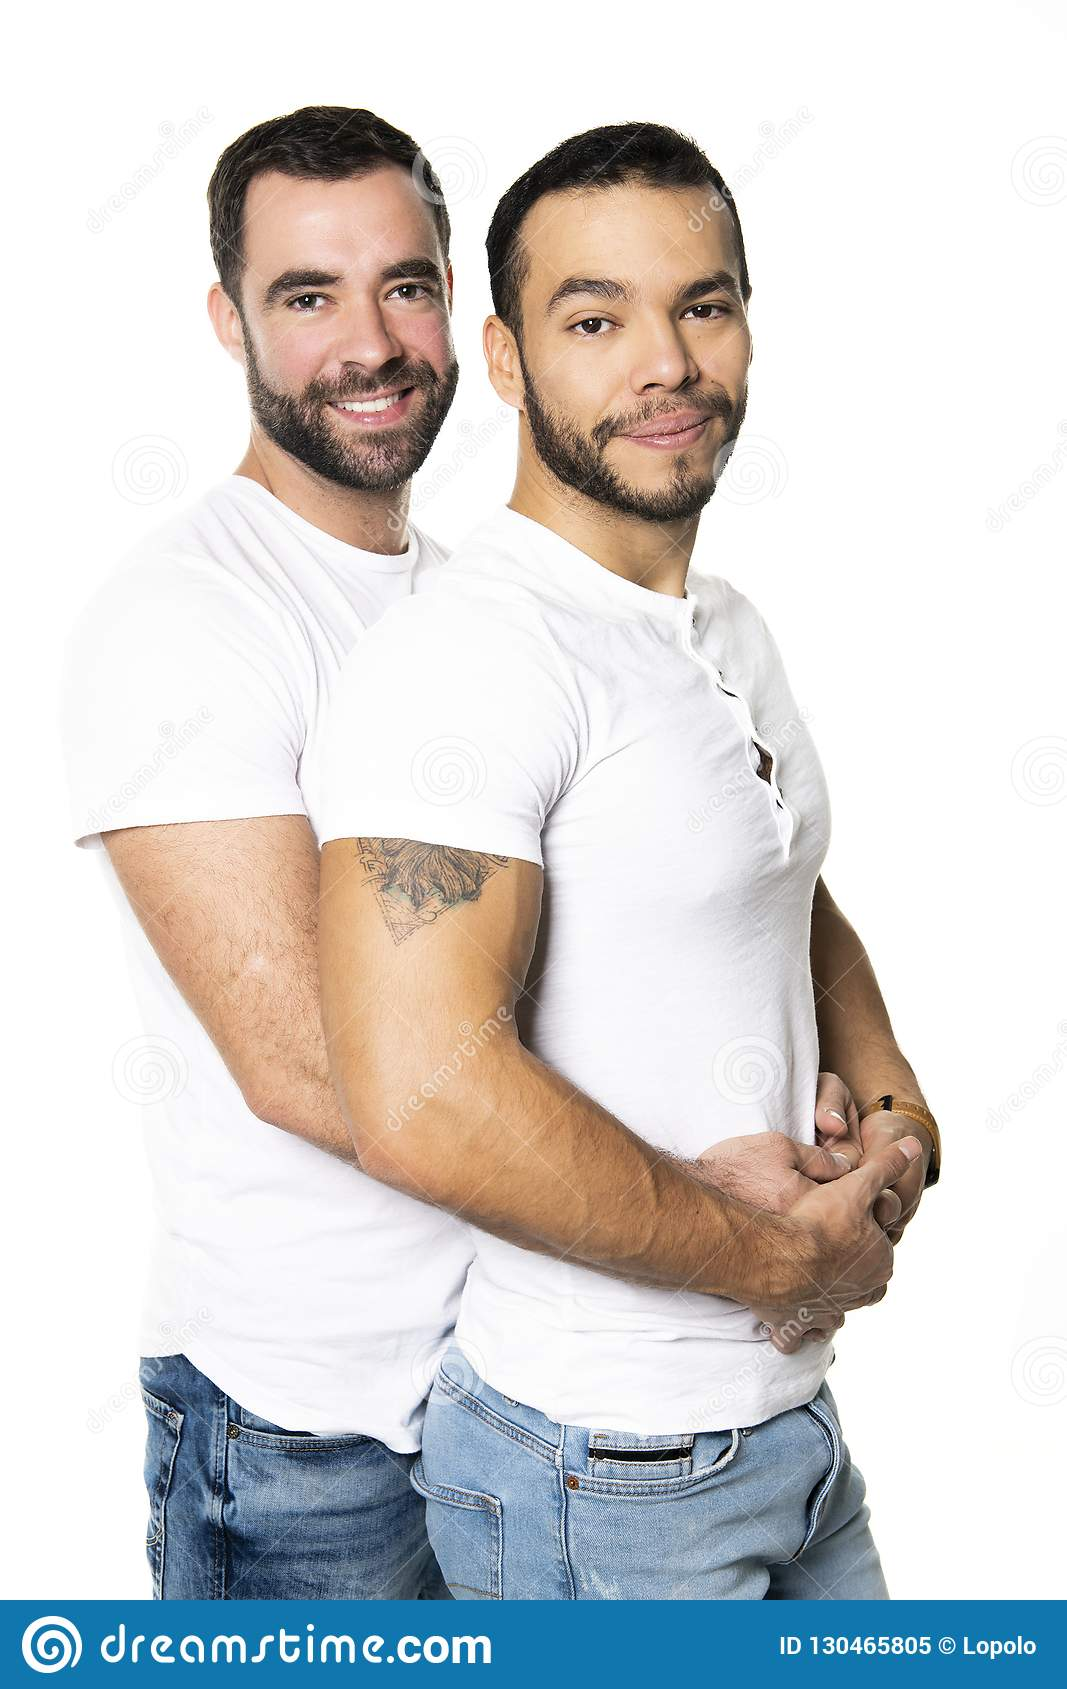bare: (517, 351, 752, 525), (254, 336, 471, 495)
